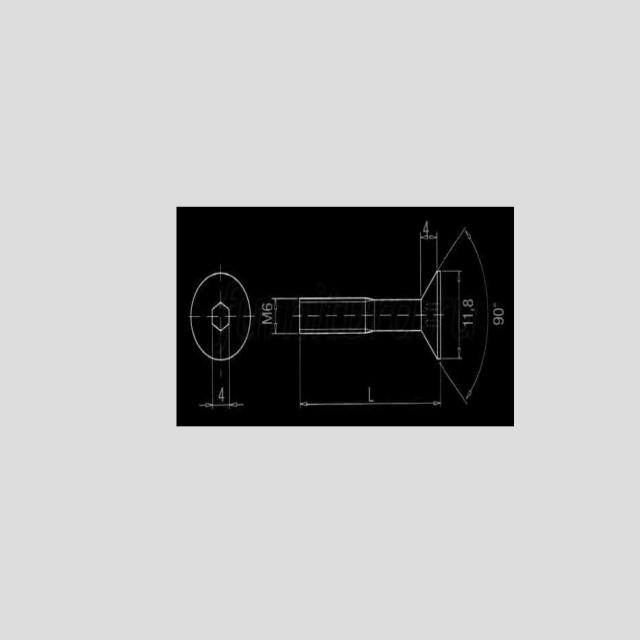marking_line: (299, 337, 423, 407), (442, 226, 490, 404), (298, 362, 443, 409), (199, 361, 245, 412), (442, 268, 464, 360), (271, 297, 299, 336), (419, 231, 439, 270), (418, 235, 423, 296)
numeric: (461, 296, 475, 309), (493, 306, 505, 318), (492, 316, 505, 326), (217, 386, 225, 401), (423, 220, 430, 235), (262, 303, 273, 312), (462, 321, 474, 327), (462, 313, 474, 318)
